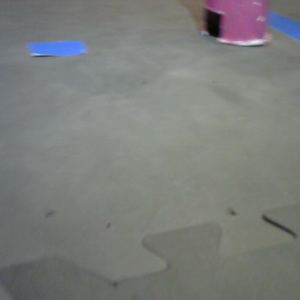right: (199, 1, 273, 48)
